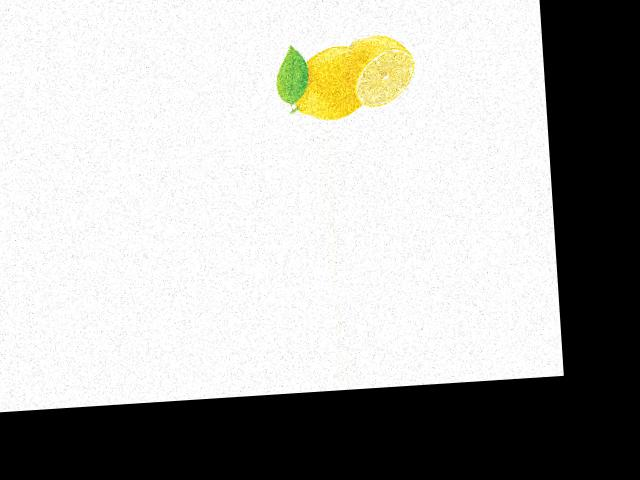lemon: (284, 42, 364, 123)
